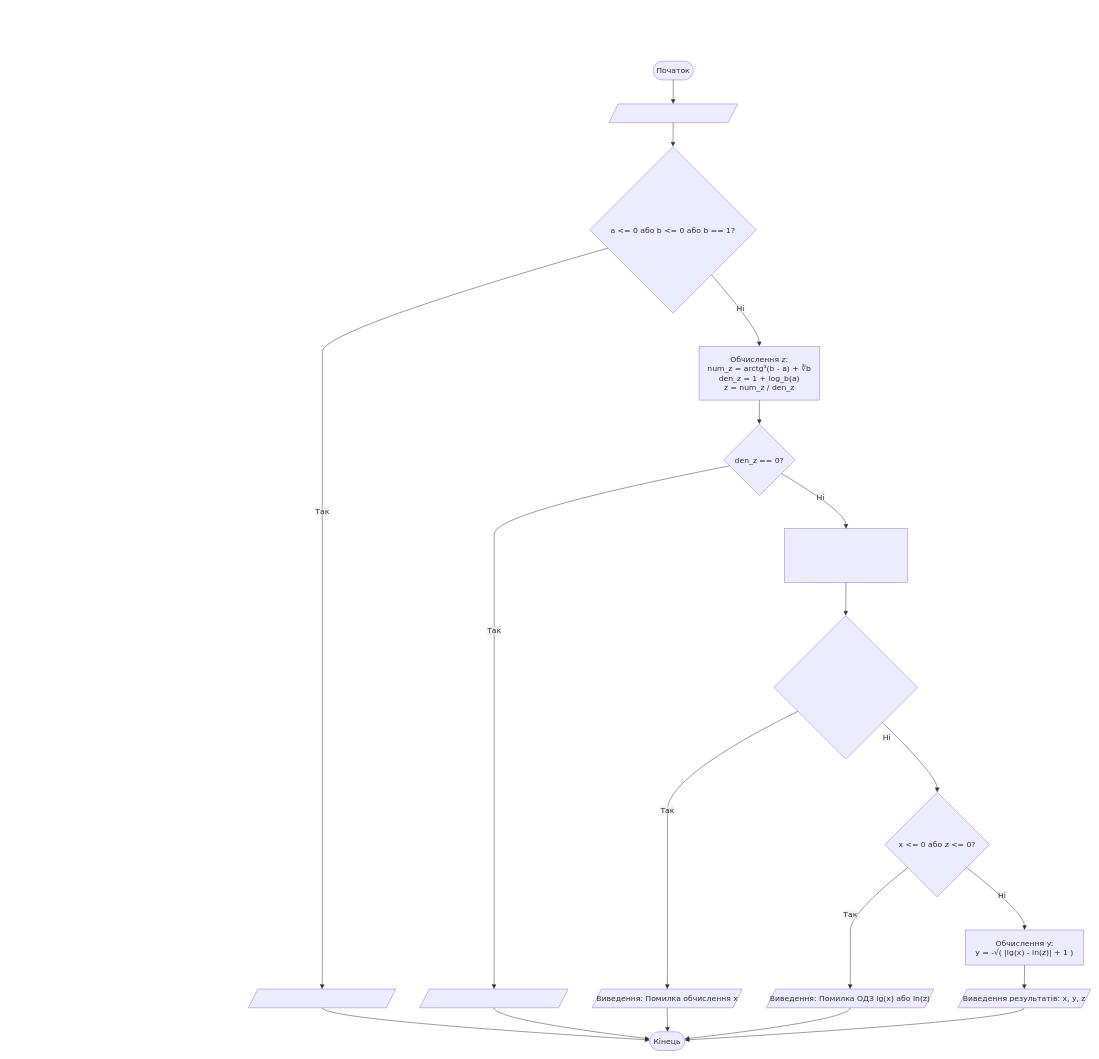
This 1099x1059 diagram has some shape labels left out. Here are the shapes that lost their labels. From the top down, the centre of each, then its label:
pixel 673 113: Введення a та b з клавіатури
pixel 845 555: Обчислення x: num_x = e^(-2.5a) + sin(a³) den_x = 2 lg|b a| x = num_x / den_x
pixel 846 687: b*a == 0 або den_x == 0?
pixel 322 998: Виведення: Помилка ОДЗ log_b(a)
pixel 493 998: Виведення: Ділення на нуль при z
